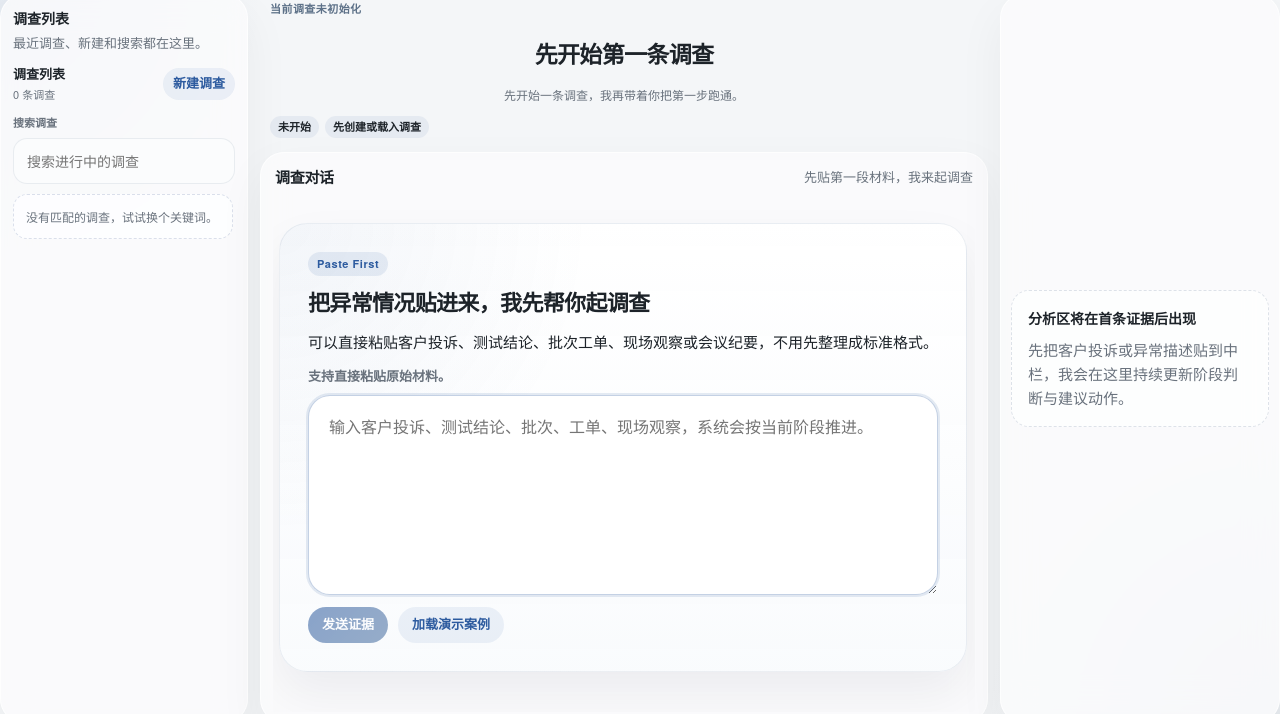
Test: Workspace › lets the user send the first evidence directly from the empty state by creating a blank case first
Expected: the element with test id "entry-composer-card" is shown, x1=279 y1=223 x2=967 y2=672
In the text box named "证据输入框": (623, 495) x1=308 y1=395 x2=938 y2=595, type "客户现场发现上电冒烟，批次 B19，已暂停出货。"
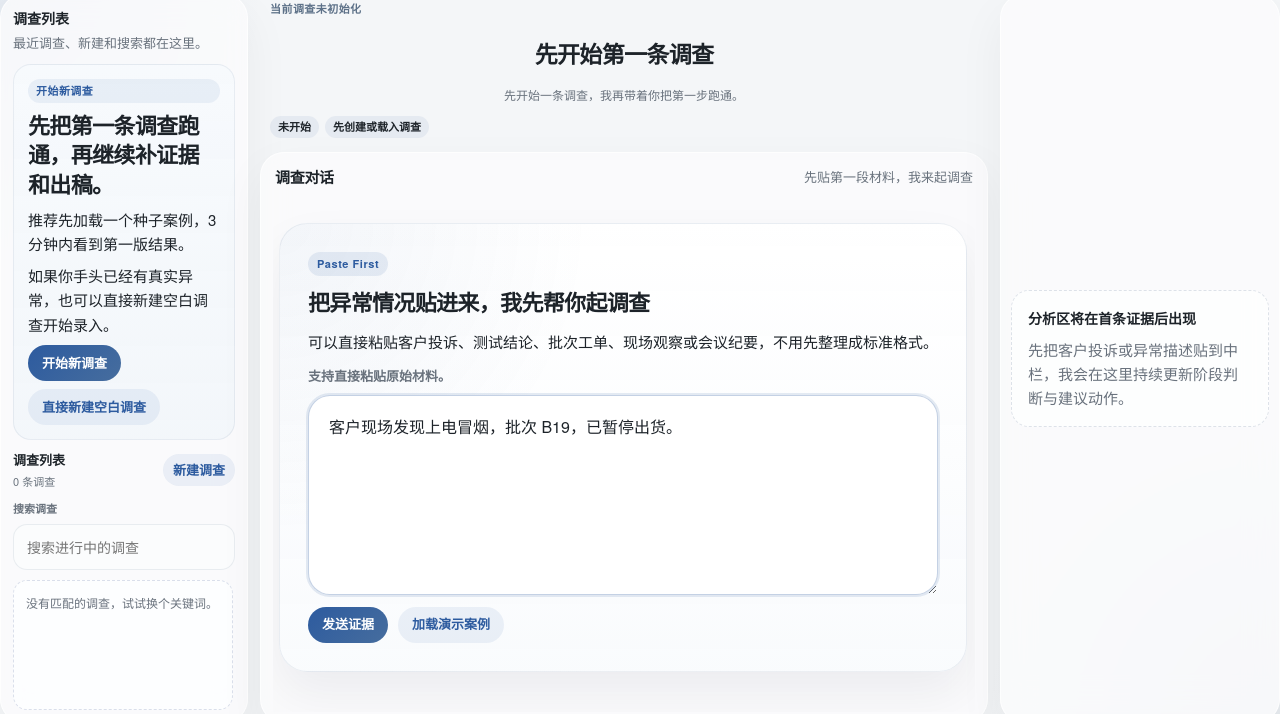
Click the button "发送证据": (348, 625) x1=308 y1=607 x2=388 y2=643
(page scrolled)
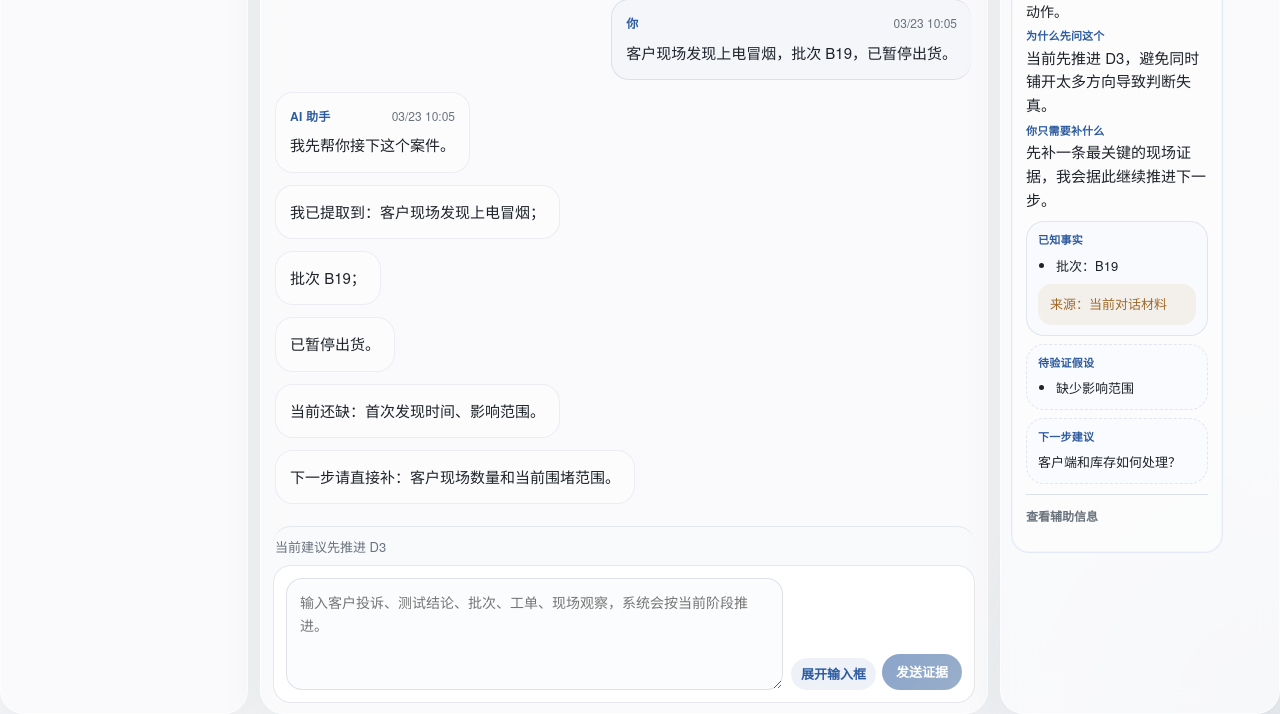
Now the element with test id "entry-composer-card" is gone
Now the element with test id "composer-dock" is shown, box x1=273 y1=537 x2=975 y2=703
